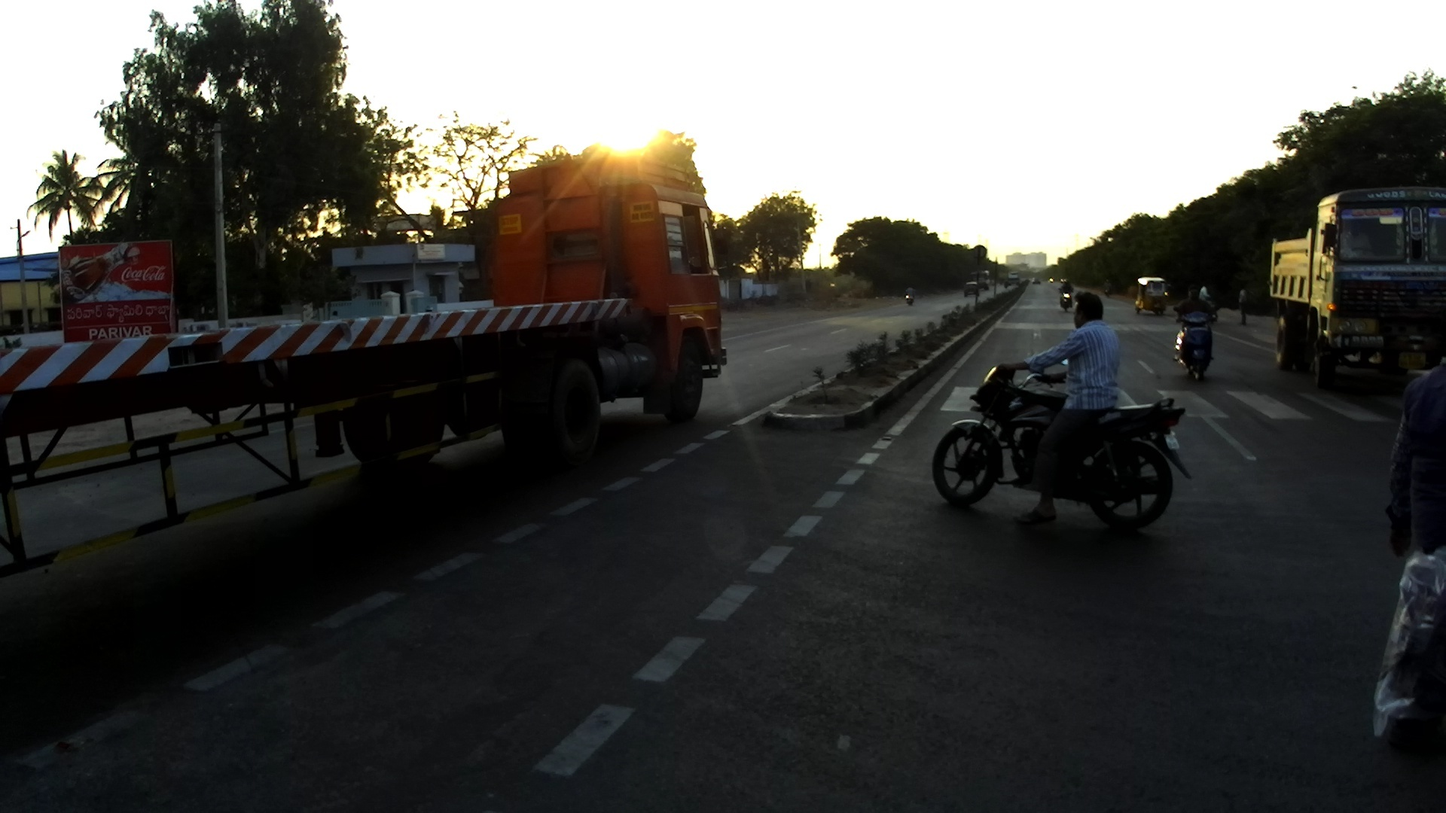autorickshaw: (1135, 276, 1170, 319)
bus: (972, 270, 990, 291)
car: (963, 282, 979, 298), (1033, 276, 1042, 287)
motorcycle: (932, 362, 1194, 534), (1174, 320, 1218, 382), (1055, 291, 1075, 312), (1099, 286, 1115, 297), (905, 294, 917, 306)
person: (1383, 343, 1443, 564), (1237, 288, 1249, 325), (328, 309, 341, 320)
rider: (997, 291, 1121, 526), (1176, 285, 1222, 321), (1197, 285, 1216, 306), (1057, 279, 1075, 300), (905, 284, 916, 296), (1102, 279, 1110, 290)
truck: (2, 130, 731, 587), (1268, 185, 1444, 389), (1003, 272, 1023, 288)
